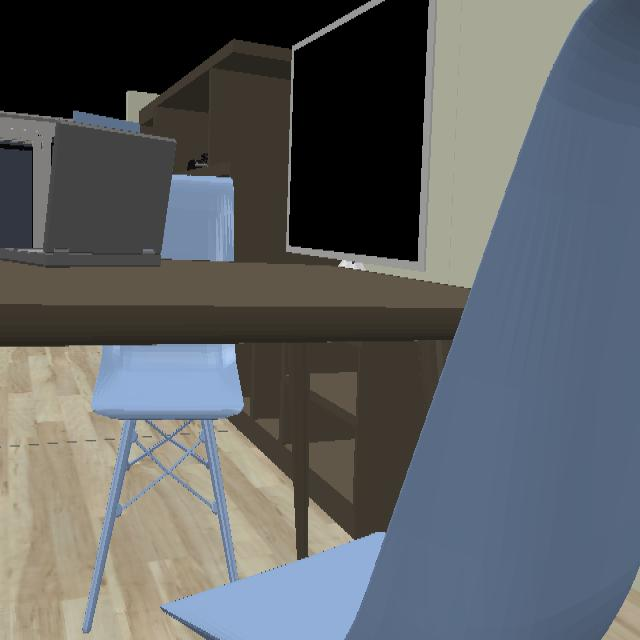bookshelf: (231, 341, 450, 541), (139, 40, 292, 265)
chair: (80, 0, 640, 640), (162, 175, 235, 264)
laptop: (0, 124, 177, 269)
monitor: (286, 0, 431, 268)
table: (0, 261, 469, 561)
